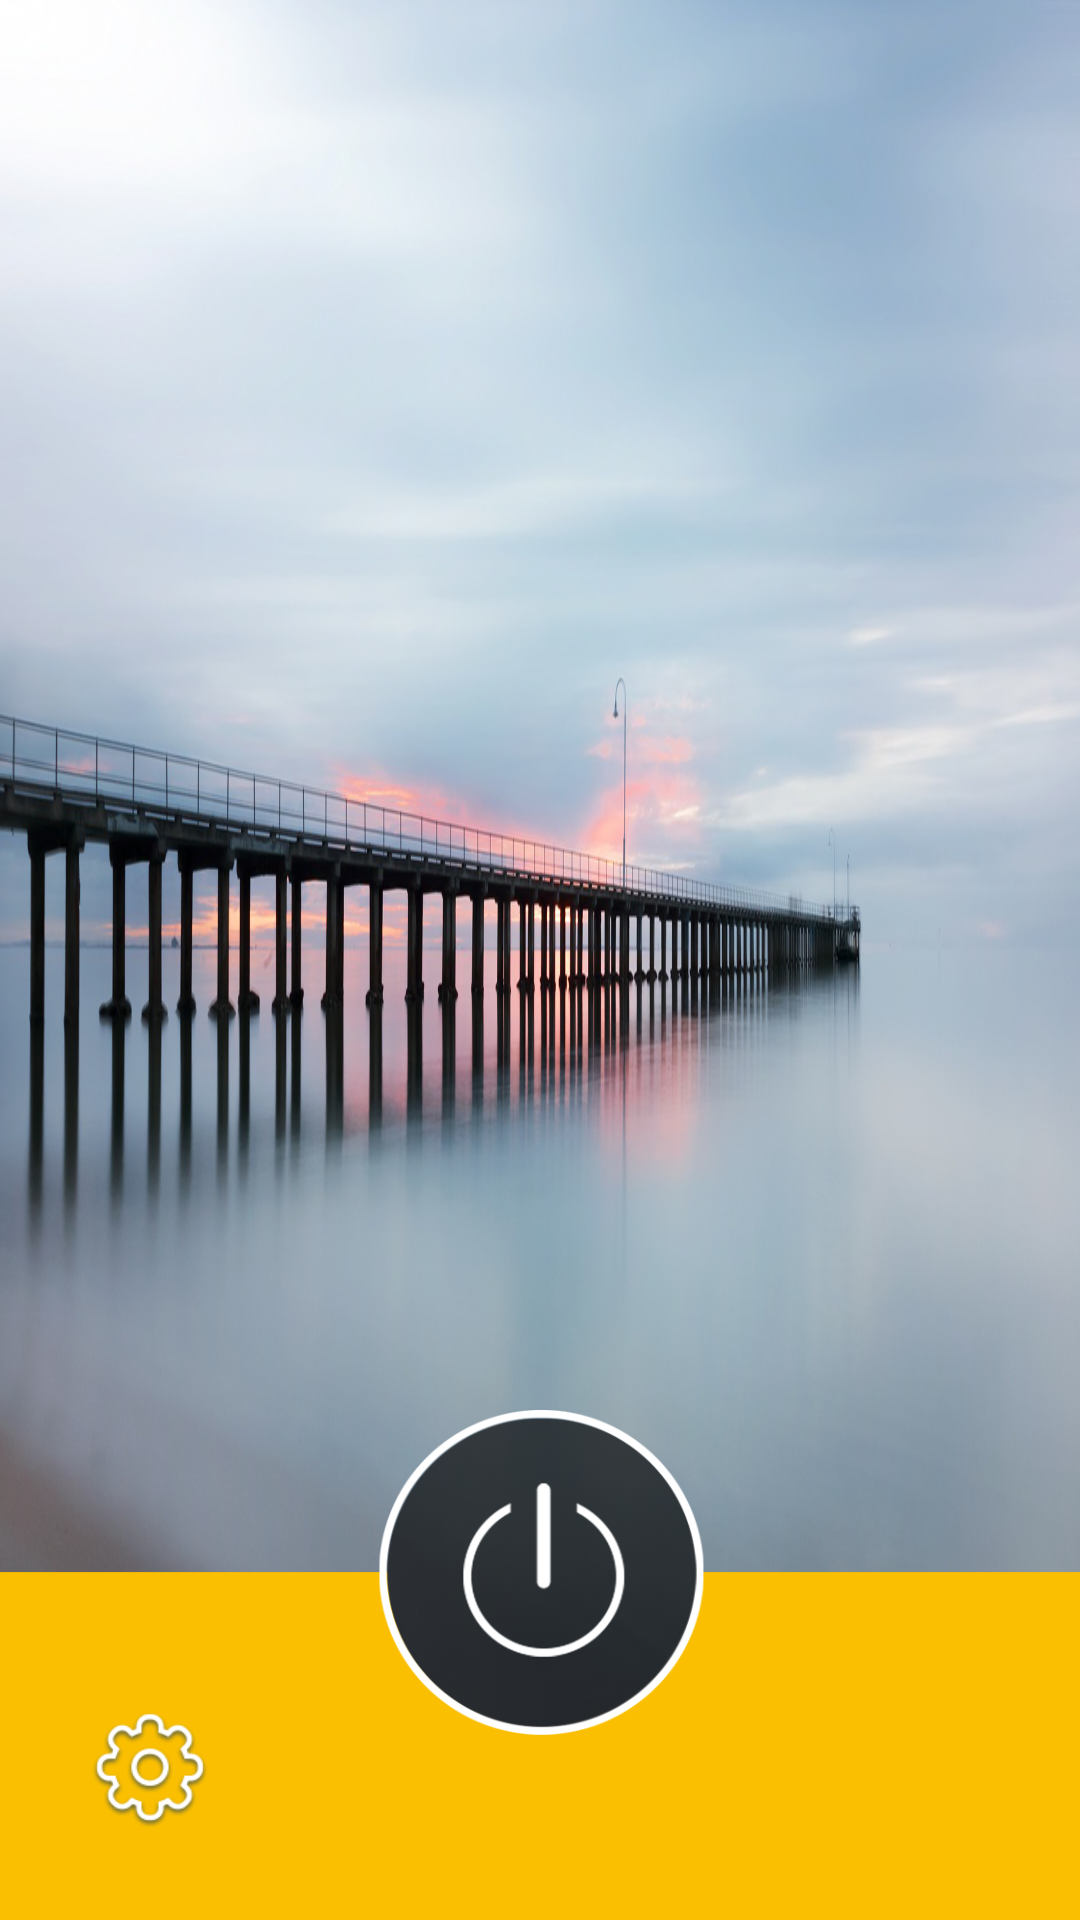

Point at icon controls on the screen. Image size 1080*1920, points as [x,y].
setting: [150,1770]
